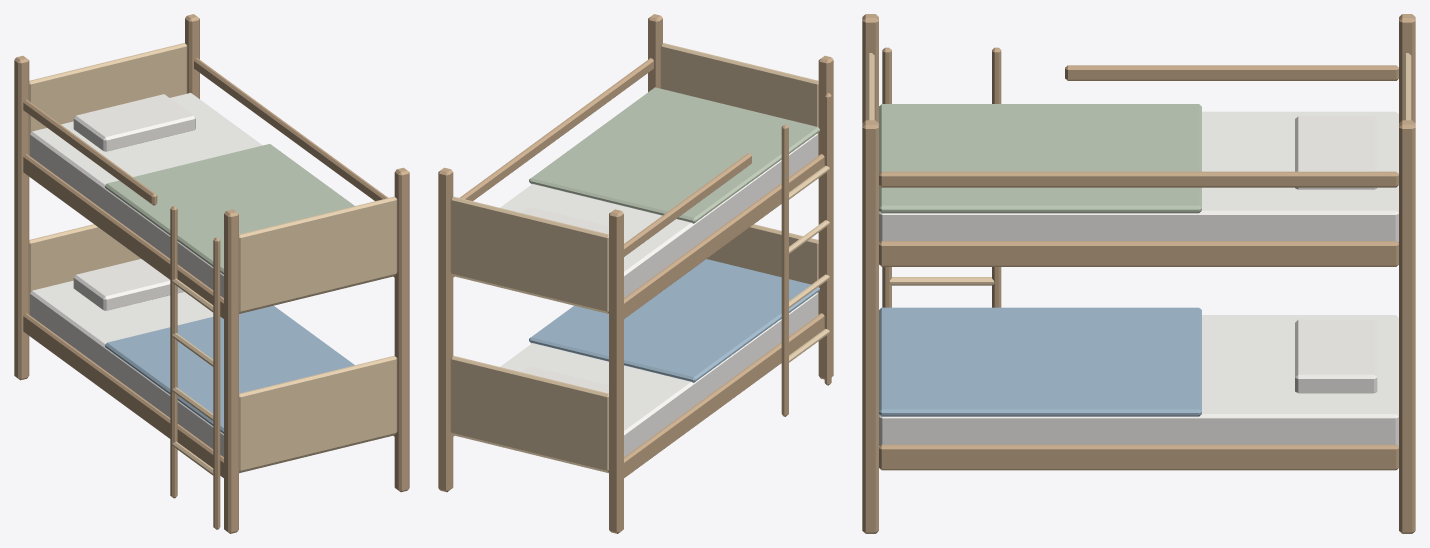
The model's file is SingleBunkBed.glb.
The picture shows the model from 3 angles, left to right: view 1: azimuth 30°, elevation 25°; view 2: azimuth 150°, elevation 25°; view 3: azimuth 270°, elevation 25°; orthographic projection. The views are drawn at different scales.
Visible parts, largest first — view 1: SingleBunkBed_Body; view 2: SingleBunkBed_Body; view 3: SingleBunkBed_Body.
Part boxes in pixels (x1,y1,x2,y2): SingleBunkBed_Body: (14,14,409,533); SingleBunkBed_Body: (438,14,833,533); SingleBunkBed_Body: (862,14,1415,533).
Size of the model in its own units: 1.01 by 1.65 by 2.02.
